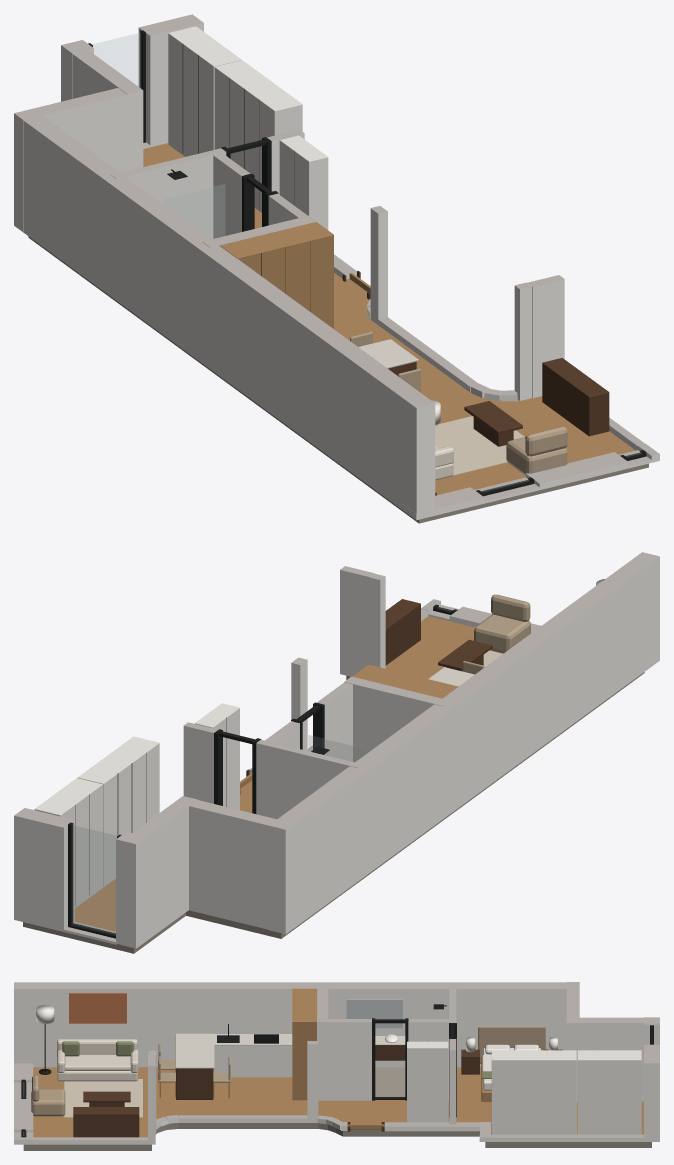
3 renders of one model, top to bottom at view 1: azimuth 30°, elevation 25°; view 2: azimuth 150°, elevation 25°; view 3: azimuth 270°, elevation 25°, orthographic. The views are drawn at different scales.
Visible parts, largest first — view 1: Wall W-ext, Floor | living, bed1 wardrobe 2 | body, Kitchen tall units | body, bed1 wardrobe 1 | body, Wall N-bed, Wall bed-S, Oak media cabinet | body, Hall cupboard | body, Wall N-bay.001, Wall bay-W, Wall stairwell-S (+19 smaller); view 2: Wall W-ext, Wall N-bed, Wall N-bay.001, bed1 wardrobe 2 | body, Wall bay-W, Wall bed-S, N-bay window 0 | glazing, bed1 wardrobe 1 | body, Wall bath-S, Wall N-bay, Wall stairwell-S, Floor | living (+17 smaller); view 3: Wall W-ext, bed1 wardrobe 2 | body, Floor | living, bed1 wardrobe 1 | body, Wall bath-E.001, Hall cupboard | body, Wall bay-W, Kitchen run | bases, Kitchen tall units | body, Oak media cabinet | body, Floor | hall, Slab | living (+37 smaller).
Boxes of the visible parts, x1,y1,x2,y2 form: Wall W-ext: [15, 116, 435, 519]; Floor | living: [334, 318, 635, 495]; bed1 wardrobe 2 | body: [214, 60, 302, 212]; Kitchen tall units | body: [219, 222, 333, 328]; bed1 wardrobe 1 | body: [168, 26, 241, 156]; Wall N-bed: [14, 88, 127, 231]; Wall bed-S: [111, 148, 226, 239]; Oak media cabinet | body: [542, 358, 609, 436]; Hall cupboard | body: [279, 135, 328, 229]; Wall N-bay.001: [138, 14, 203, 147]; Wall bay-W: [72, 50, 143, 170]; Wall stairwell-S: [527, 275, 564, 398]; Wall W-ext: [268, 552, 659, 934]; Wall N-bed: [189, 800, 294, 933]; Wall N-bay.001: [14, 808, 74, 931]; bed1 wardrobe 2 | body: [77, 736, 159, 887]; Wall bay-W: [123, 796, 197, 948]; Wall bed-S: [256, 739, 362, 819]; N-bay window 0 | glazing: [72, 825, 117, 934]; bed1 wardrobe 1 | body: [34, 778, 102, 908]; Wall bath-S: [344, 676, 450, 762]; Wall N-bay: [116, 831, 146, 948]; Wall stairwell-S: [340, 566, 374, 676]; Floor | living: [385, 616, 503, 678]; Wall W-ext: [14, 982, 566, 1067]; bed1 wardrobe 2 | body: [491, 1050, 576, 1134]; Floor | living: [33, 1067, 320, 1137]; bed1 wardrobe 1 | body: [577, 1050, 641, 1134]; Wall bath-E.001: [328, 1019, 371, 1100]; Hall cupboard | body: [407, 1041, 448, 1122]; Wall bay-W: [566, 1017, 643, 1101]; Kitchen run | bases: [214, 1046, 292, 1077]; Kitchen tall units | body: [292, 988, 316, 1100]; Oak media cabinet | body: [73, 1107, 139, 1137]; Floor | hall: [320, 1100, 449, 1124]; Slab | living: [23, 1123, 318, 1150].
Size of the model in its own units: 4.77 by 2.32 by 15.6.
